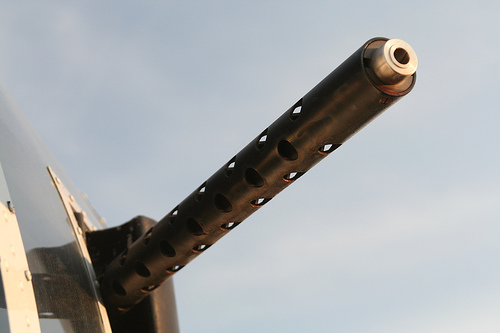rifle: (78, 44, 427, 306)
